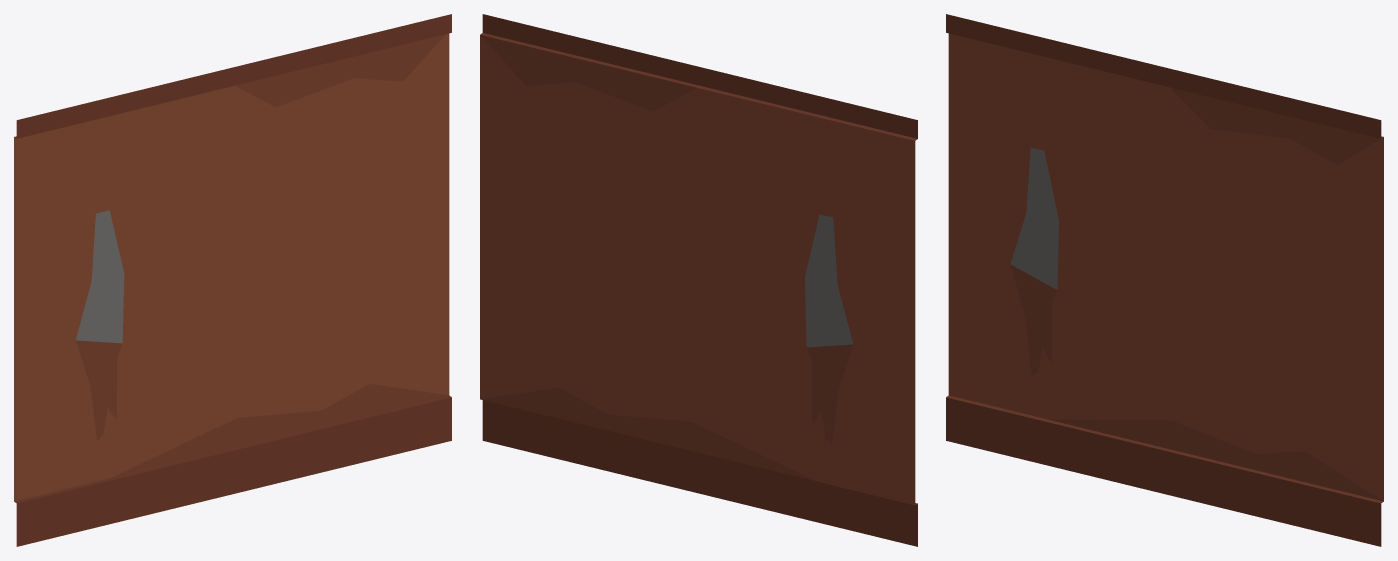
File: AI_Env_Wall_Red_TornWallpaper_02.fbx
3 renders of one model, left to right at view 1: azimuth 30°, elevation 25°; view 2: azimuth 150°, elevation 25°; view 3: azimuth 330°, elevation 25°, orthographic.
Parts seen in each view (by area): view 1: AI_Env_Wall_Red_TornWallpaper_02; view 2: AI_Env_Wall_Red_TornWallpaper_02; view 3: AI_Env_Wall_Red_TornWallpaper_02.
Part boxes in pixels (x1,y1,x2,y2): AI_Env_Wall_Red_TornWallpaper_02: (14,14,451,546); AI_Env_Wall_Red_TornWallpaper_02: (480,14,917,546); AI_Env_Wall_Red_TornWallpaper_02: (946,14,1383,546).
Size of the model in its own units: 5 by 4.69 by 0.0549.
